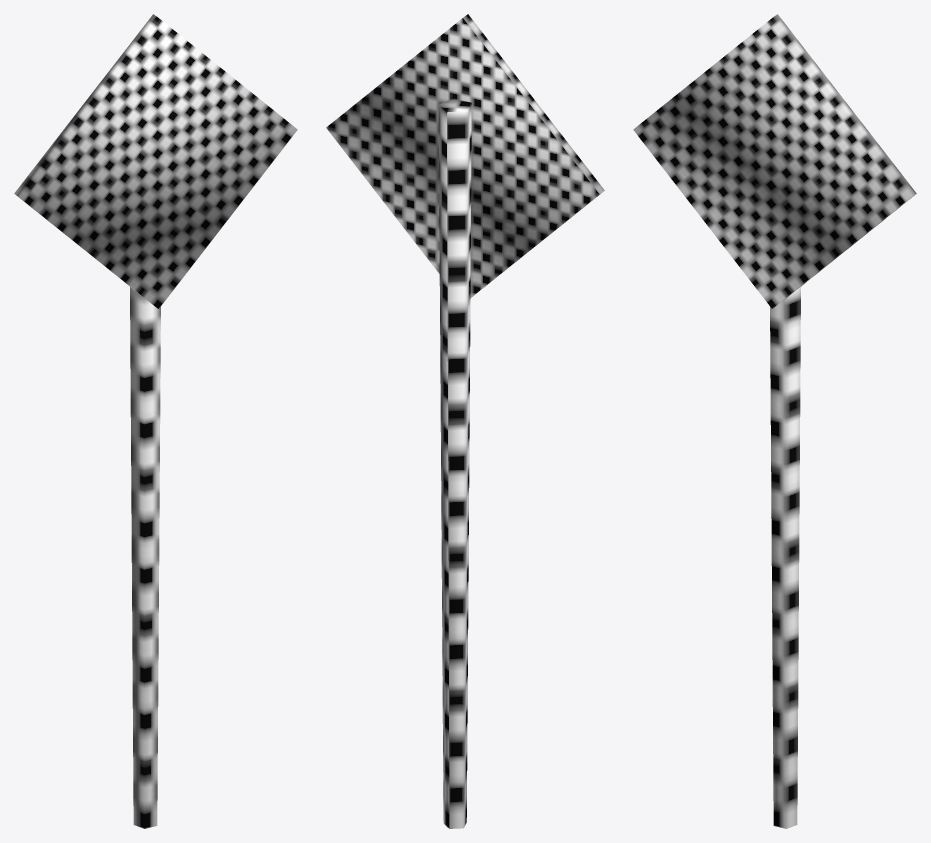
The model's file is Se¤al_Transito_01.obj.
3 views of the same model, side by side, from view 1: azimuth 30°, elevation 25°; view 2: azimuth 150°, elevation 25°; view 3: azimuth 330°, elevation 25° (orthographic).
Size of the model in its own units: 18.31 by 51.24 by 2.45.
